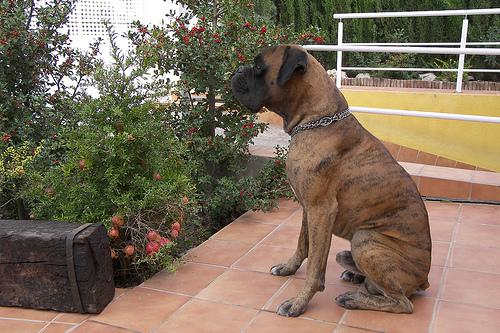dog-boxer: (231, 43, 307, 111)
